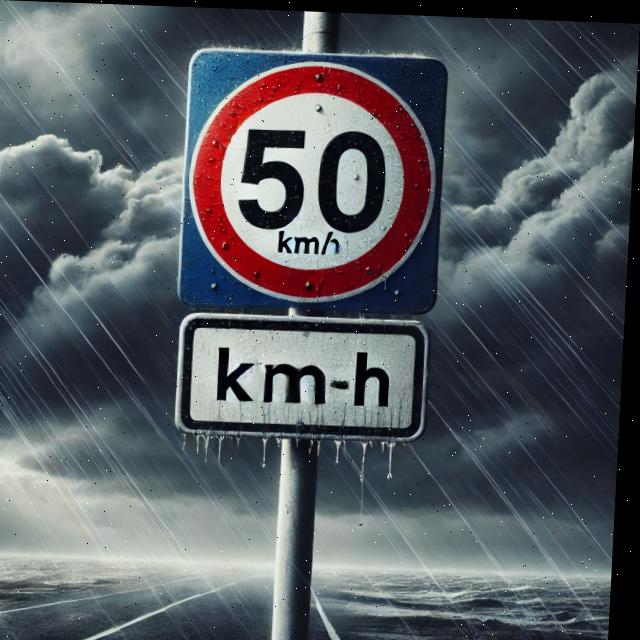Speed limit 50: (181, 48, 449, 311)
